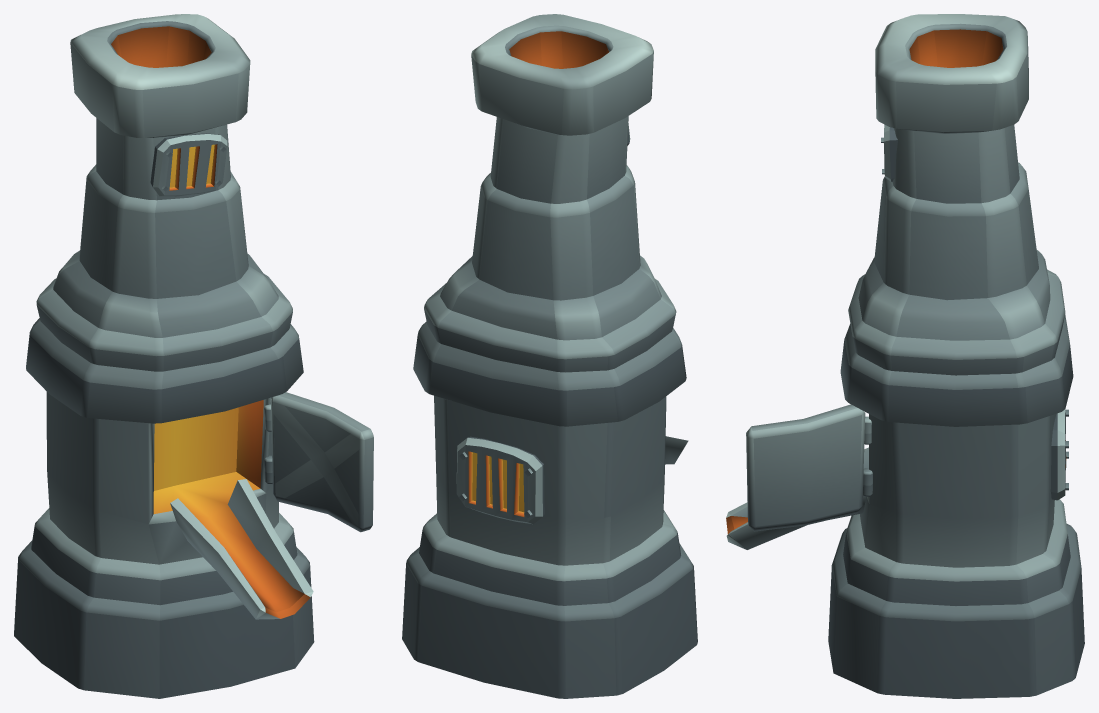
The model's file is smithy_oven_big.fbx.
The picture shows the model from 3 angles, left to right: view 1: azimuth 30°, elevation 25°; view 2: azimuth 150°, elevation 25°; view 3: azimuth 270°, elevation 25°; orthographic projection.
Parts seen in each view (by area): view 1: smithy_oven_big; view 2: smithy_oven_big; view 3: smithy_oven_big.
Boxes of the visible parts, x1=… form: smithy_oven_big: x1=14, y1=14, x2=373, y2=698; smithy_oven_big: x1=402, y1=14, x2=697, y2=698; smithy_oven_big: x1=726, y1=14, x2=1084, y2=698.
Size of the model in its own units: 467 by 1125 by 614.
